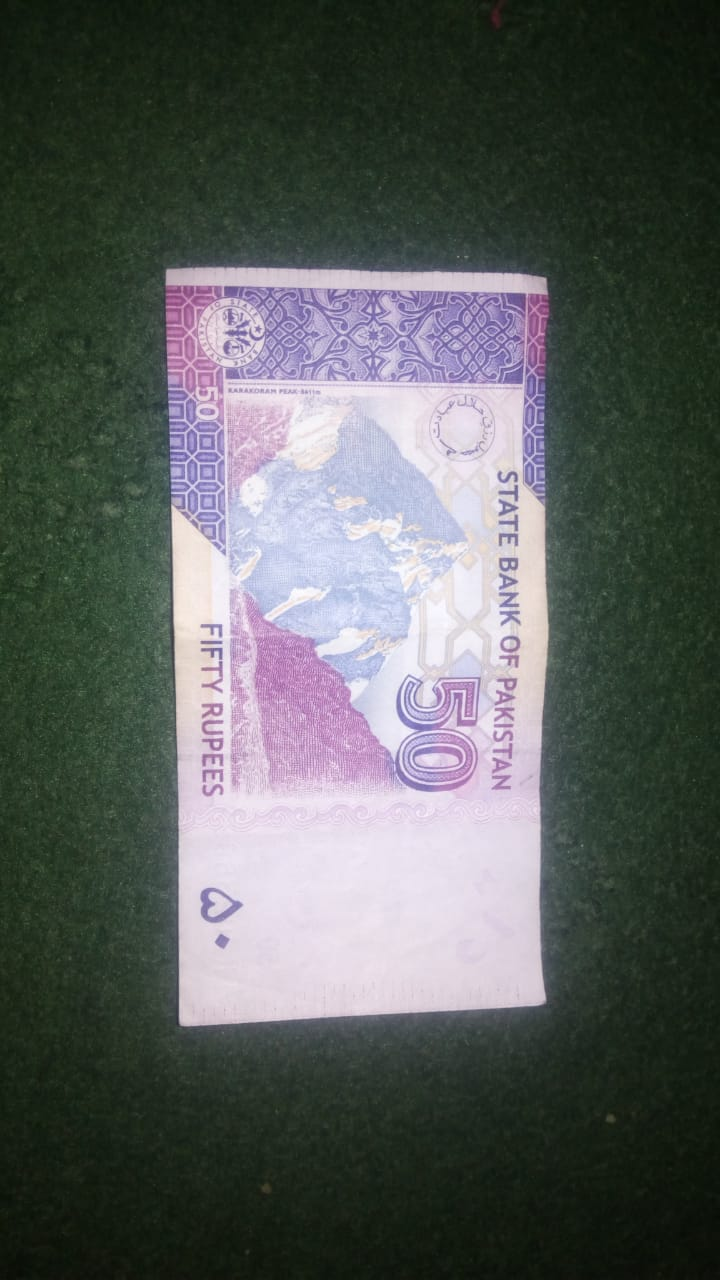50 rupee: (118, 242, 611, 1043)
